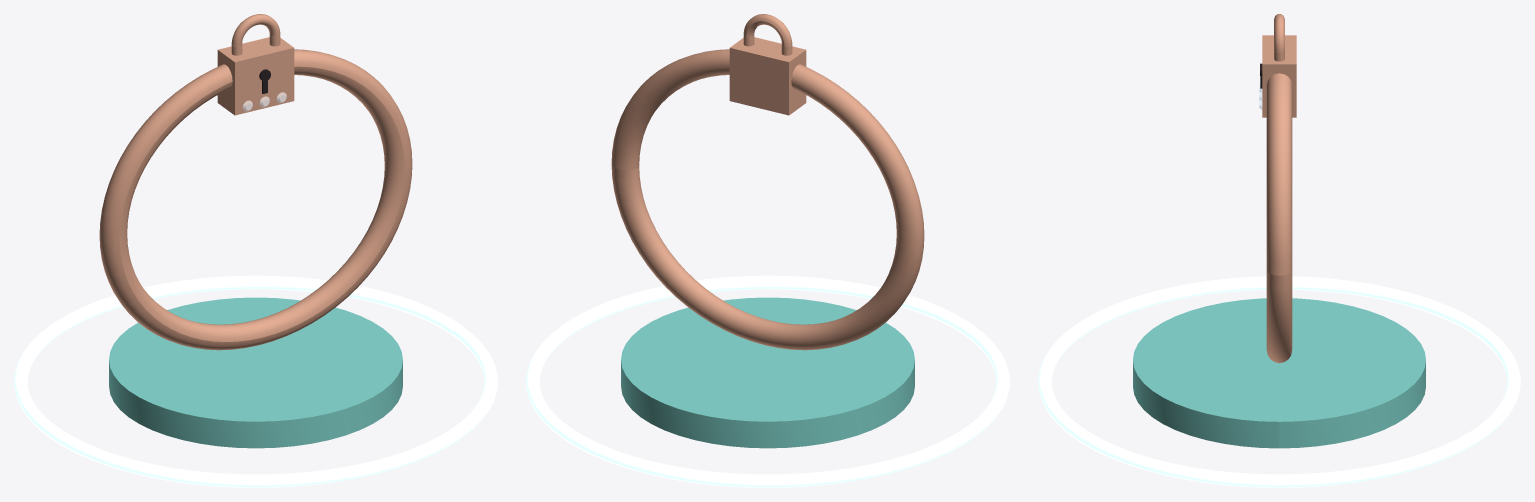
Rendered from tiffany-lock-bangle.glb.
3 renders of one model, left to right at view 1: azimuth 30°, elevation 25°; view 2: azimuth 150°, elevation 25°; view 3: azimuth 270°, elevation 25°, orthographic.
Visible parts, largest first — view 1: Base, Band, Halo, LockBody, Arch; view 2: Base, Band, Halo, LockBody, Arch; view 3: Base, Halo, Band, LockBody.
Boxes of the visible parts, x1,y1,x2,y2 form: Base: (109, 297, 402, 448); Band: (99, 49, 412, 350); Halo: (14, 275, 497, 487); LockBody: (217, 37, 294, 115); Arch: (231, 14, 280, 46); Base: (621, 297, 914, 448); Band: (611, 49, 924, 350); Halo: (526, 275, 1009, 487); LockBody: (729, 37, 806, 115); Arch: (743, 14, 792, 46); Base: (1133, 298, 1425, 448); Halo: (1038, 276, 1520, 487); Band: (1266, 73, 1292, 363); LockBody: (1262, 35, 1296, 117).
Bounding box in the file's own units: 0.0988 × 0.0839 × 0.0988.
